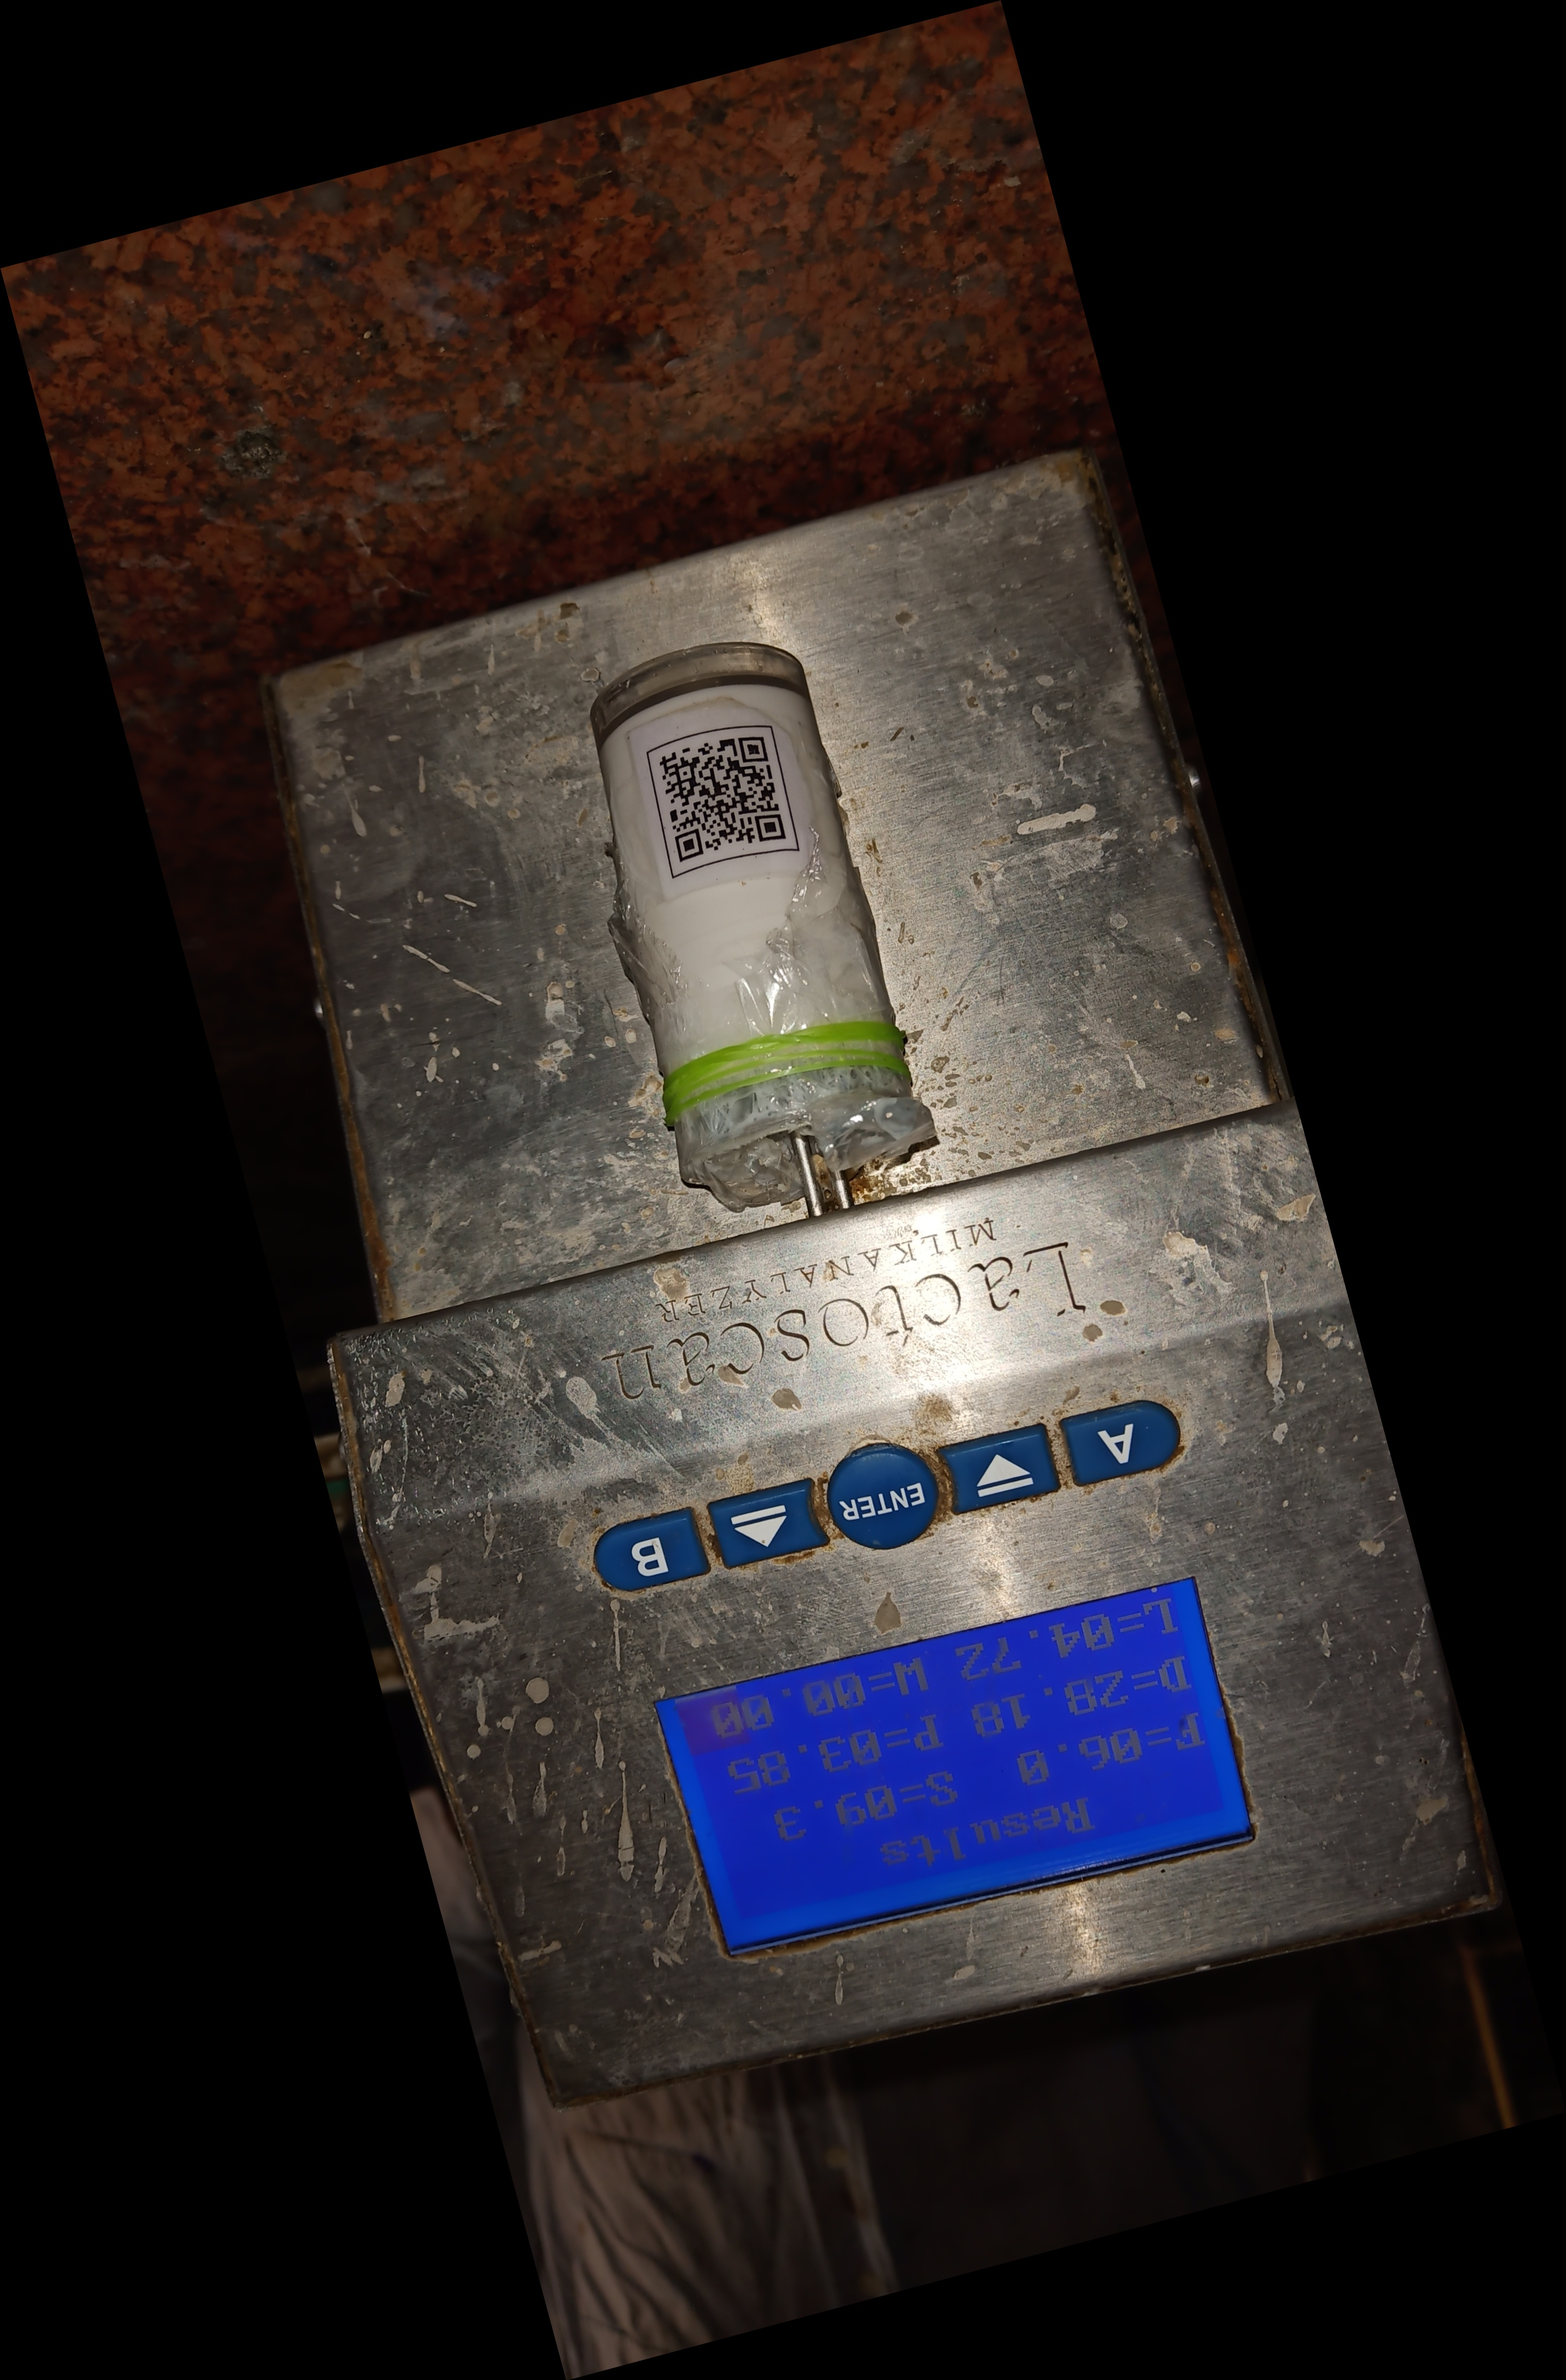lcd: (641, 1545, 1304, 1997)
qr: (626, 695, 832, 898)
